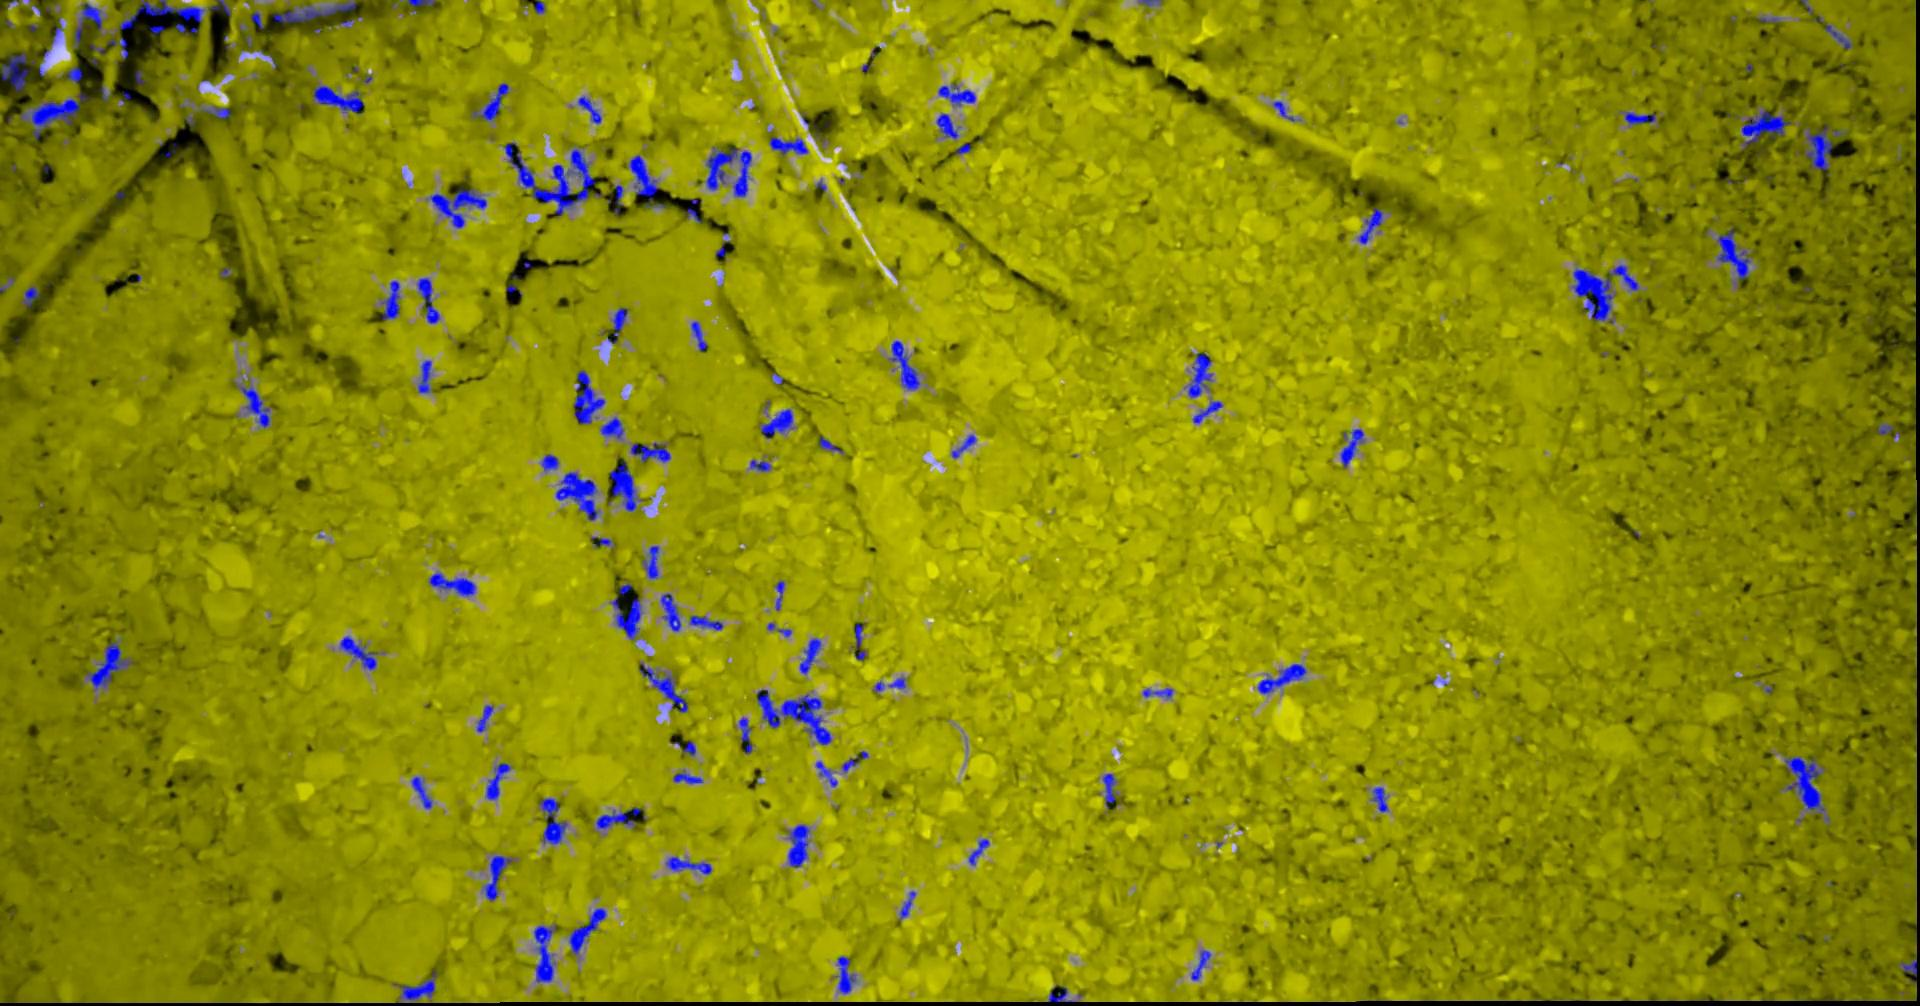ant: (118, 0, 204, 36), (637, 662, 687, 713), (429, 185, 486, 227), (1784, 756, 1823, 812), (555, 471, 598, 520), (86, 641, 130, 688), (1804, 124, 1846, 171), (1740, 109, 1790, 147), (272, 0, 356, 23), (629, 155, 664, 207), (568, 907, 604, 954), (1716, 227, 1749, 279), (573, 370, 604, 423), (1257, 663, 1305, 694), (312, 85, 363, 113), (610, 460, 637, 511), (890, 340, 919, 389), (610, 596, 641, 639), (471, 83, 508, 119), (483, 855, 512, 901), (538, 796, 566, 843), (533, 925, 556, 982), (72, 3, 102, 47), (239, 385, 269, 427), (339, 636, 377, 669), (397, 969, 436, 1000), (0, 52, 29, 91), (428, 572, 475, 596), (1187, 352, 1211, 398), (417, 277, 439, 323), (759, 408, 792, 438), (596, 807, 640, 828), (485, 762, 510, 799), (787, 824, 809, 868), (1340, 428, 1363, 467), (937, 83, 975, 105), (1357, 207, 1382, 243), (630, 442, 670, 462), (665, 856, 711, 874), (799, 638, 820, 674), (660, 593, 681, 631), (607, 307, 629, 343), (380, 279, 399, 319), (1823, 23, 1851, 50), (770, 136, 808, 155), (836, 955, 855, 993), (577, 95, 601, 123), (1192, 400, 1222, 423), (1898, 953, 1919, 984), (841, 749, 869, 772), (1190, 950, 1210, 981), (411, 776, 430, 808), (951, 434, 975, 459), (935, 113, 957, 138), (815, 760, 837, 786), (968, 838, 989, 865), (599, 417, 623, 438), (690, 321, 707, 351), (682, 198, 702, 224), (643, 545, 658, 578), (690, 615, 723, 630), (899, 890, 916, 920), (738, 716, 750, 753), (107, 37, 128, 58), (417, 359, 430, 392), (1102, 774, 1115, 809), (874, 677, 905, 691), (853, 622, 865, 661), (818, 436, 842, 453), (1048, 984, 1072, 1002), (1624, 111, 1655, 124), (672, 768, 702, 782), (476, 705, 493, 730), (1371, 786, 1388, 812), (1272, 102, 1294, 121), (22, 285, 39, 307), (199, 105, 230, 118), (207, 0, 231, 15), (408, 0, 436, 13), (766, 622, 791, 636), (1142, 687, 1172, 697), (66, 66, 83, 83), (541, 453, 557, 470), (613, 184, 622, 213), (749, 459, 770, 471), (775, 580, 783, 608), (250, 10, 263, 29), (590, 536, 611, 547), (681, 741, 695, 754), (1877, 423, 1893, 434), (955, 142, 970, 154), (535, 0, 543, 13)
